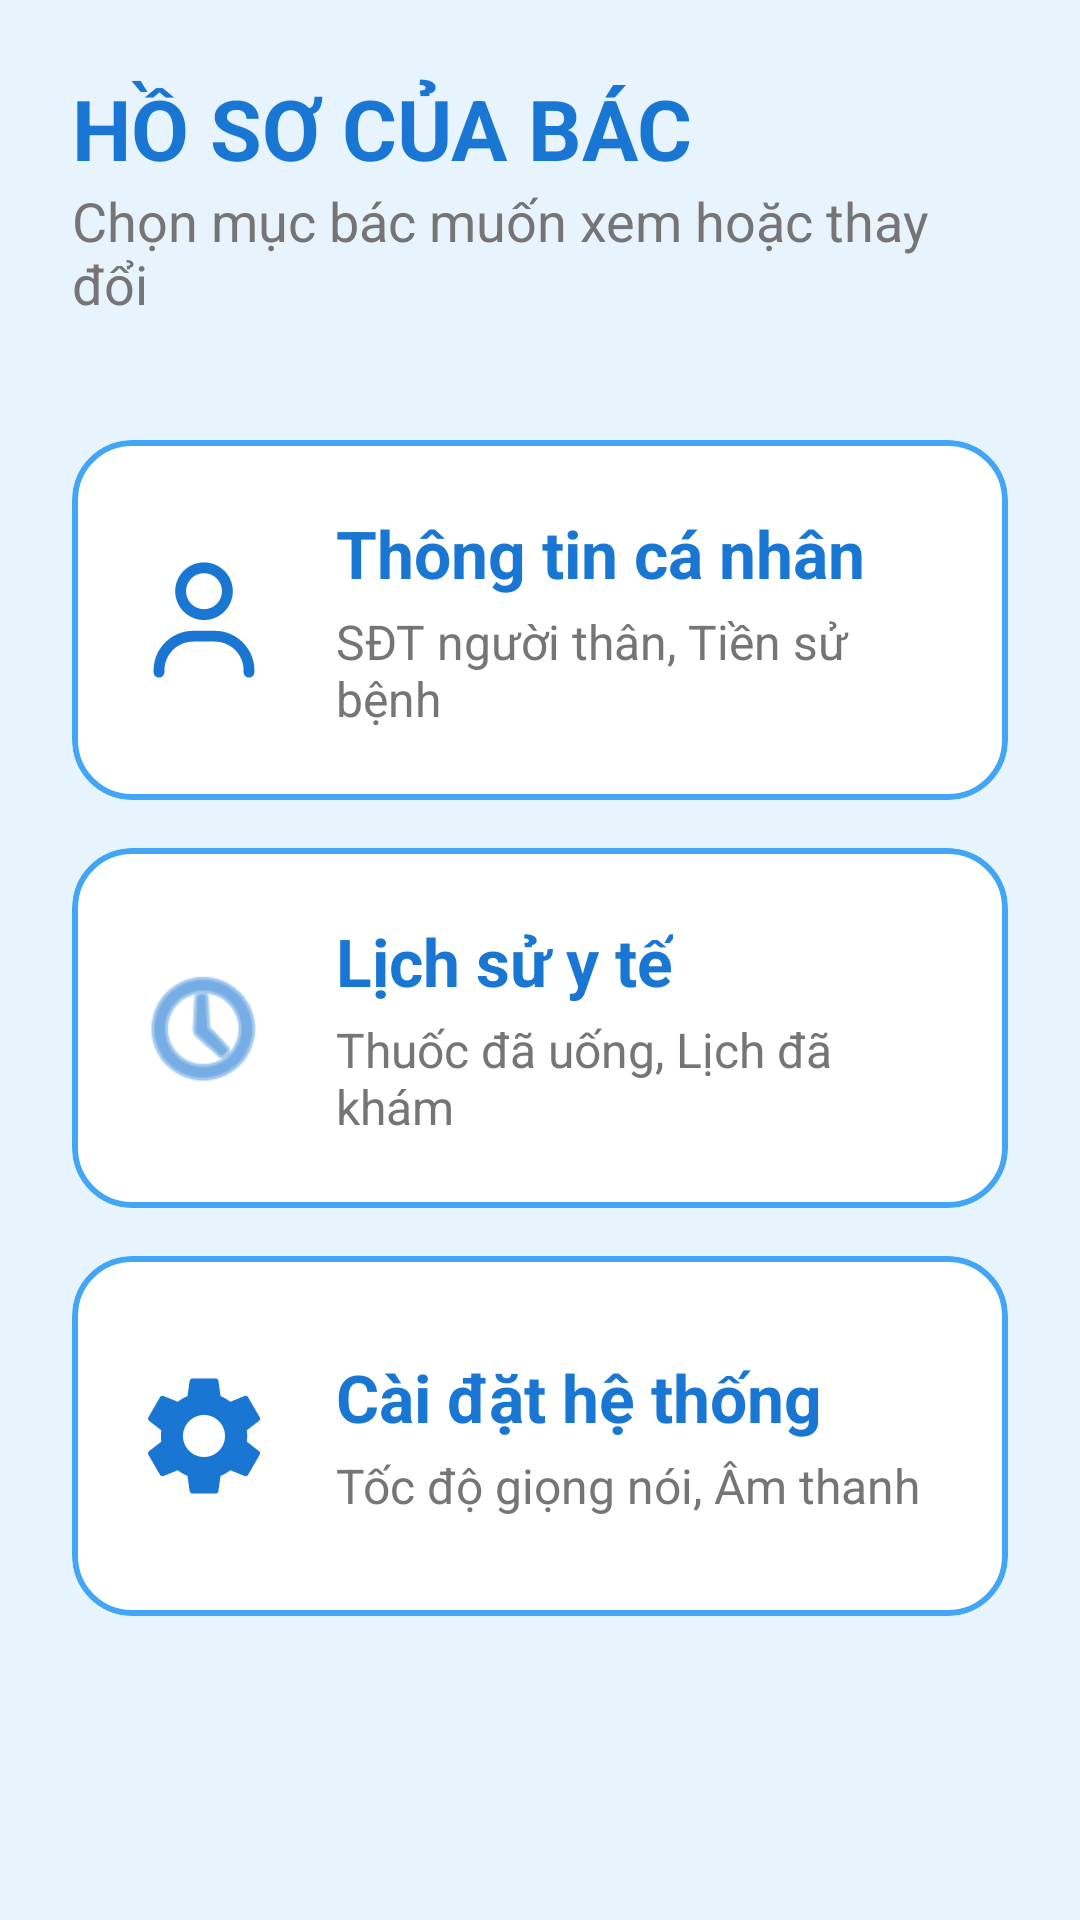

Where icons sit on this 1080px x 1920px app screen, as bbox=(x1, y1, x2, y2):
profile: bbox=(153, 562, 255, 678)
recent history: bbox=(151, 977, 255, 1081)
settings: bbox=(148, 1378, 260, 1494)
